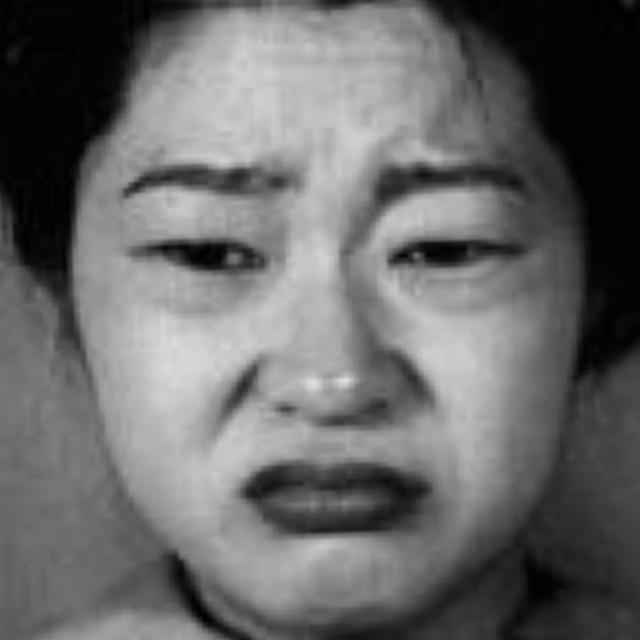disgust: (67, 41, 552, 621)
